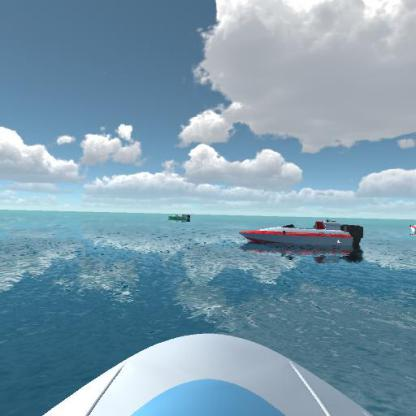usv0: (164, 208, 194, 223)
usv3: (235, 212, 372, 260), (405, 215, 415, 235)
